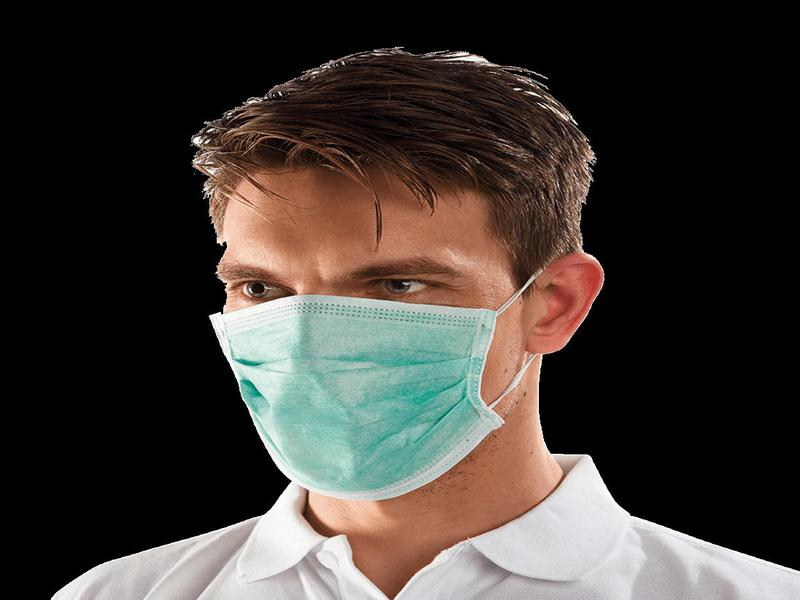with_mask: (198, 48, 606, 501)
